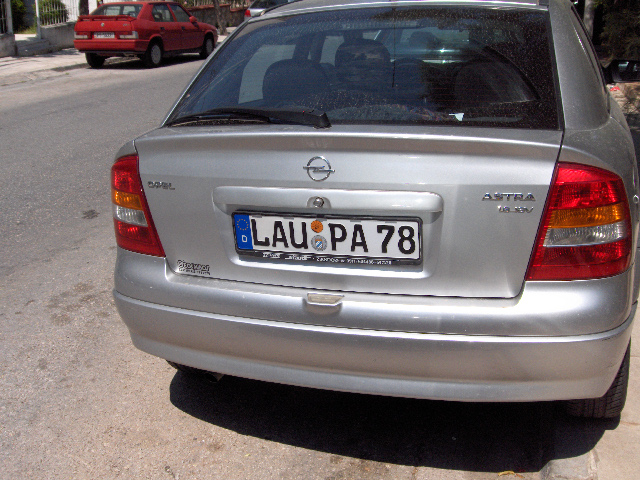licenseplate: (231, 211, 422, 261)
